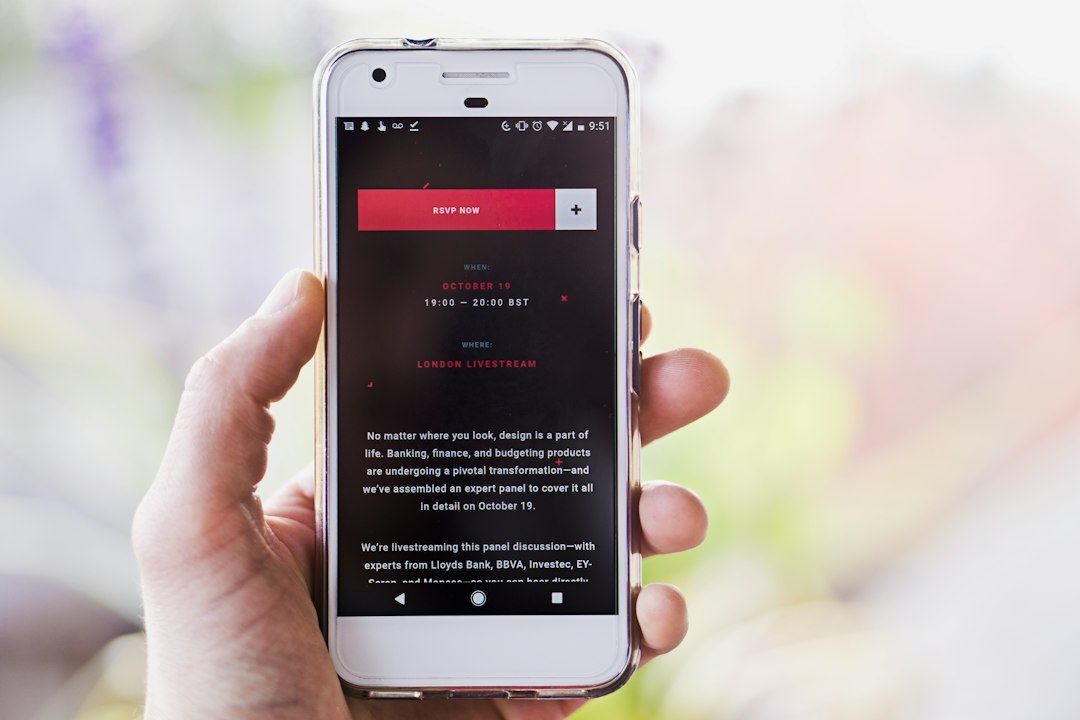phone: (308, 36, 640, 697)
